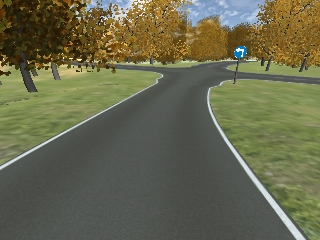left: (232, 47, 247, 59)
